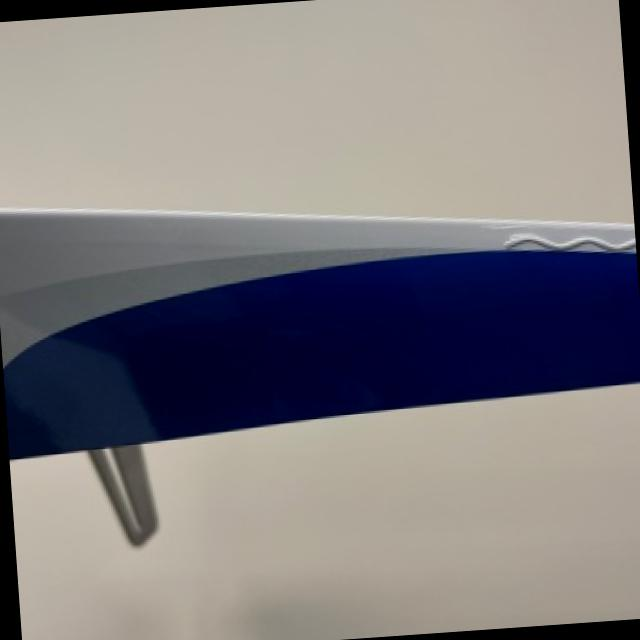healthy: (0, 208, 640, 542)
